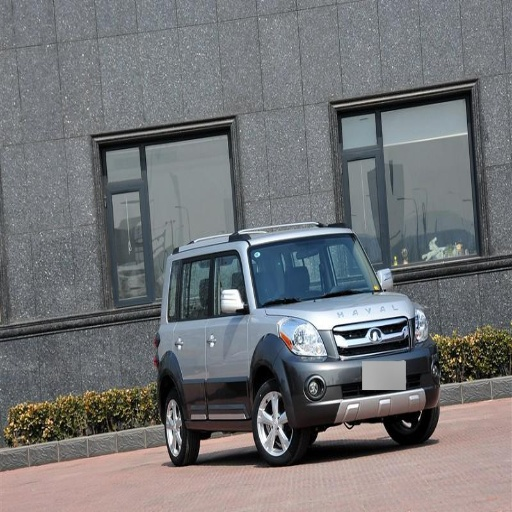front_bumper: (281, 318, 434, 426)
front_right_door: (205, 250, 245, 411)
front_right_light: (281, 318, 330, 359)
